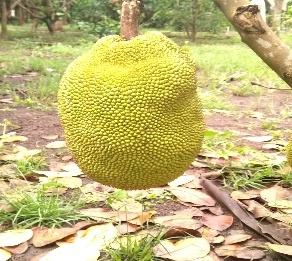Mit: (58, 33, 205, 184)
